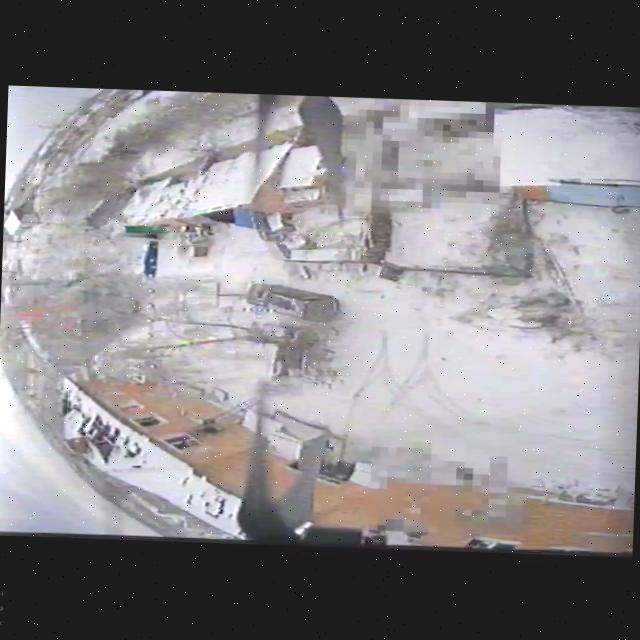Vehicle: (245, 278, 338, 322)
